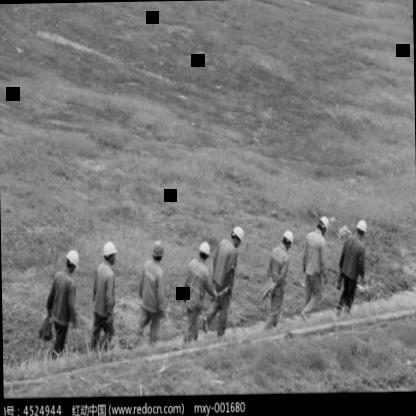helmet: (101, 238, 119, 266), (314, 208, 330, 238), (278, 226, 296, 252), (62, 247, 80, 272), (352, 212, 368, 240), (147, 239, 166, 260), (230, 224, 244, 248), (196, 240, 211, 262), (1, 258, 4, 284)
